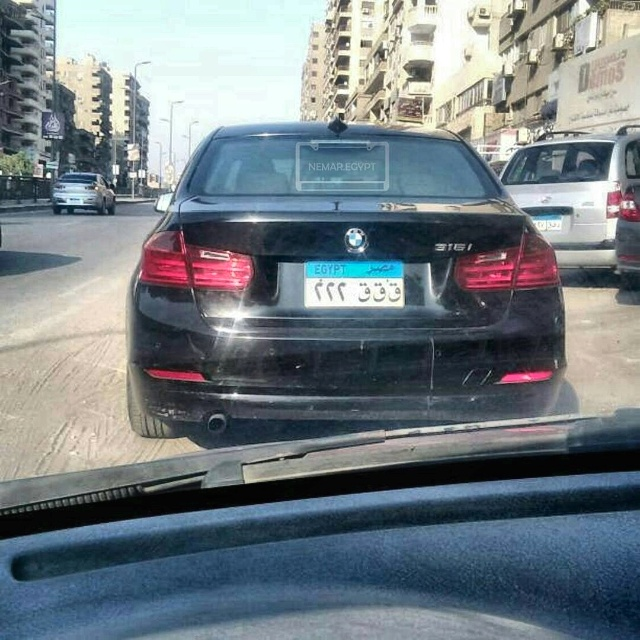License Plate: (300, 257, 408, 312)
